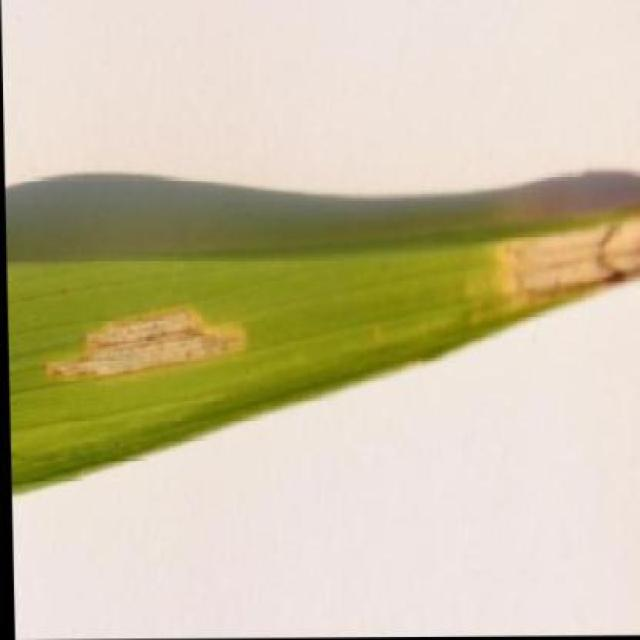Brown_Spot: (3, 203, 640, 494)
